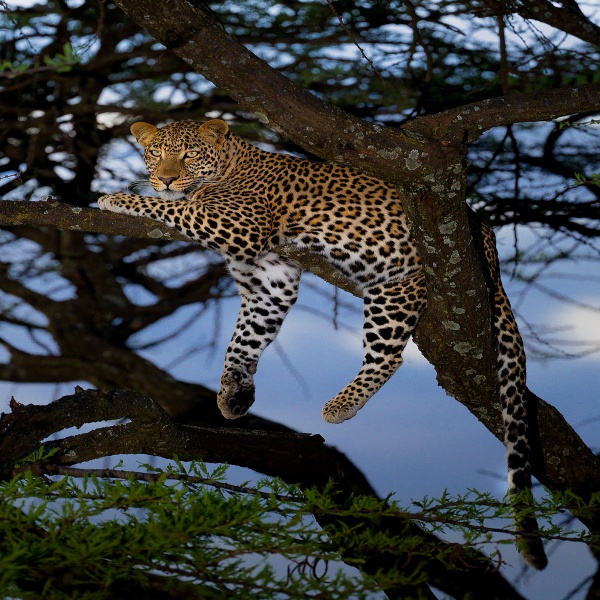Leopard: (95, 112, 565, 574)
